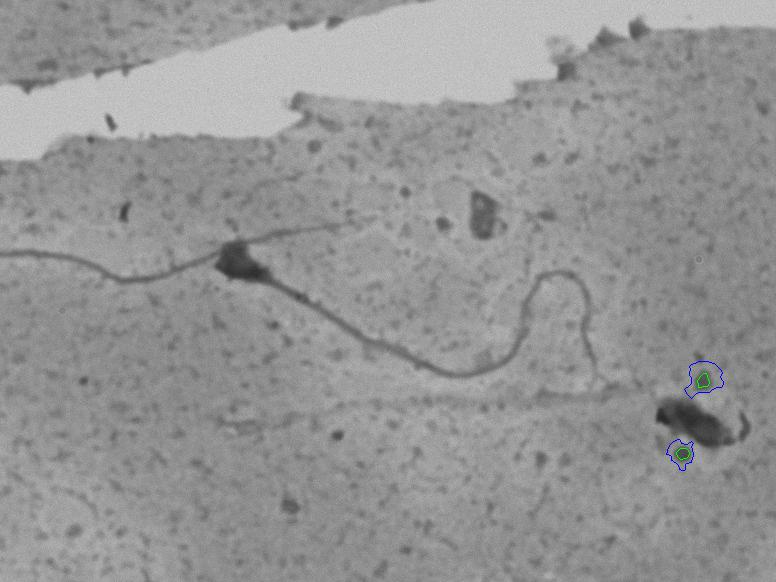Abnormal: (189, 210, 635, 419)
